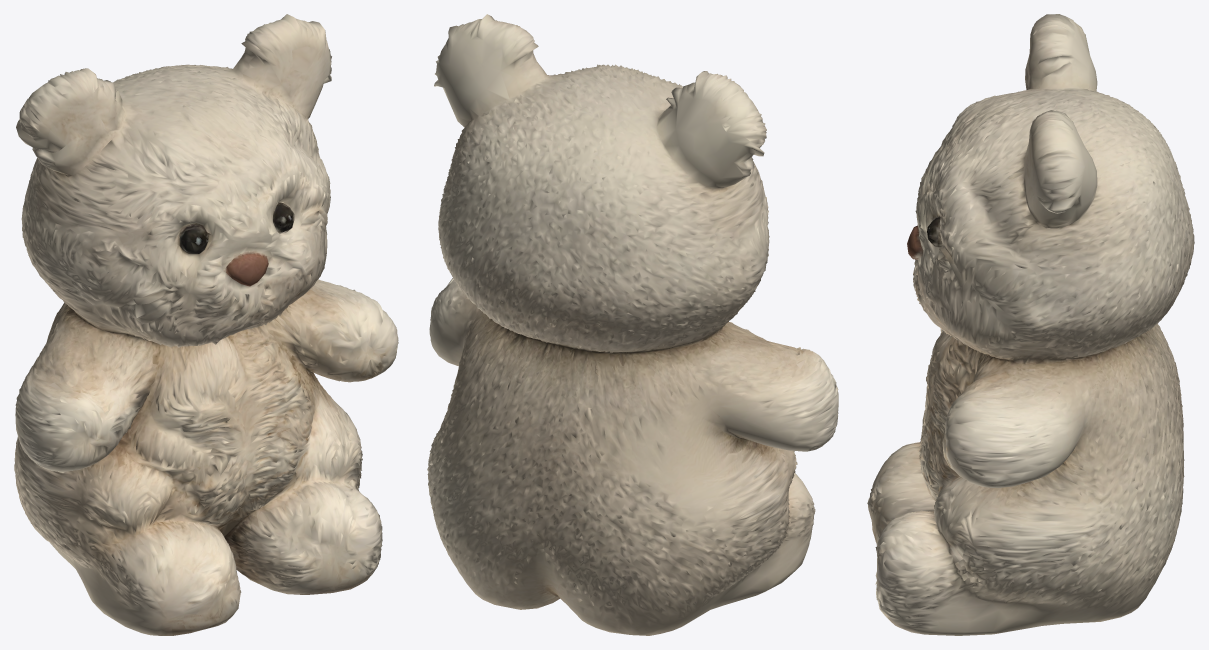
File: TeddyBear.glb
3 renders of one model, left to right at view 1: azimuth 30°, elevation 25°; view 2: azimuth 150°, elevation 25°; view 3: azimuth 270°, elevation 25°, orthographic. The views are drawn at different scales.
Parts seen in each view (by area): view 1: TeddyBearScan; view 2: TeddyBearScan; view 3: TeddyBearScan.
Part boxes in pixels (box(x1,y1,x2,y2)): TeddyBearScan: box(14, 14, 398, 635); TeddyBearScan: box(427, 14, 838, 635); TeddyBearScan: box(867, 14, 1194, 635).
Bounding box in the file's own units: 0.7517 × 1.01 × 0.5852.
Materials: 1 (1 with a texture image).
